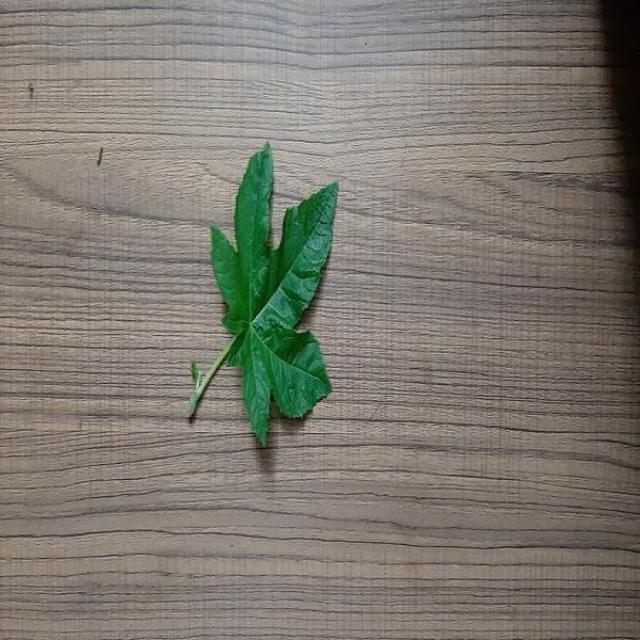castor: (188, 144, 338, 446)
